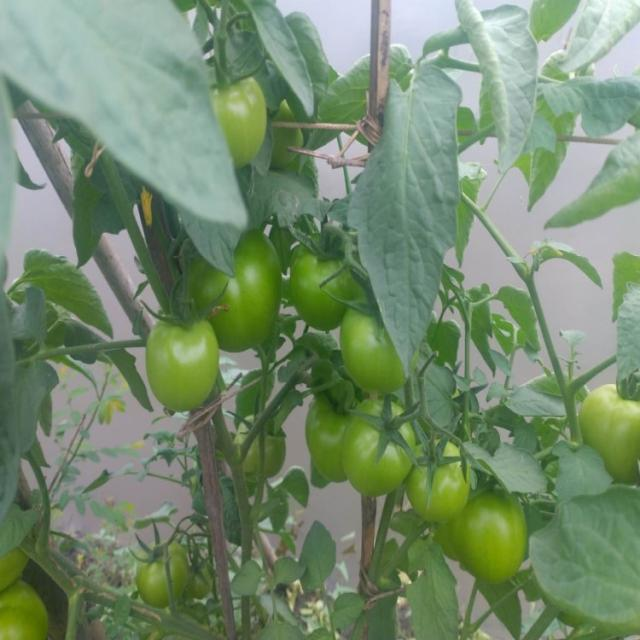tomato: (191, 239, 284, 346), (447, 491, 526, 581), (343, 304, 418, 396), (575, 383, 640, 484), (343, 406, 418, 491), (296, 234, 361, 326), (150, 328, 220, 410), (208, 81, 271, 166), (408, 445, 470, 519), (306, 400, 356, 479), (1, 586, 50, 640), (140, 549, 186, 606), (238, 427, 288, 479), (1, 532, 30, 593), (189, 567, 215, 600)
